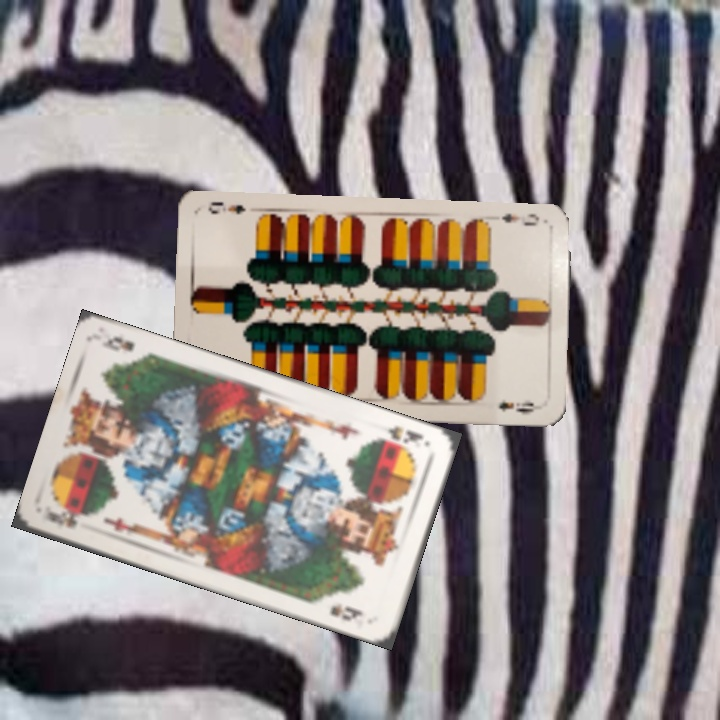E9: (497, 209, 542, 229)
SK: (373, 422, 432, 452), (41, 506, 83, 530)
